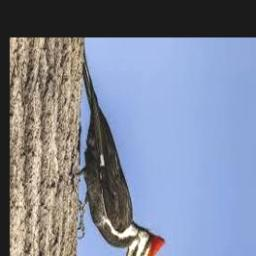Woodpecker: (77, 46, 166, 256)
